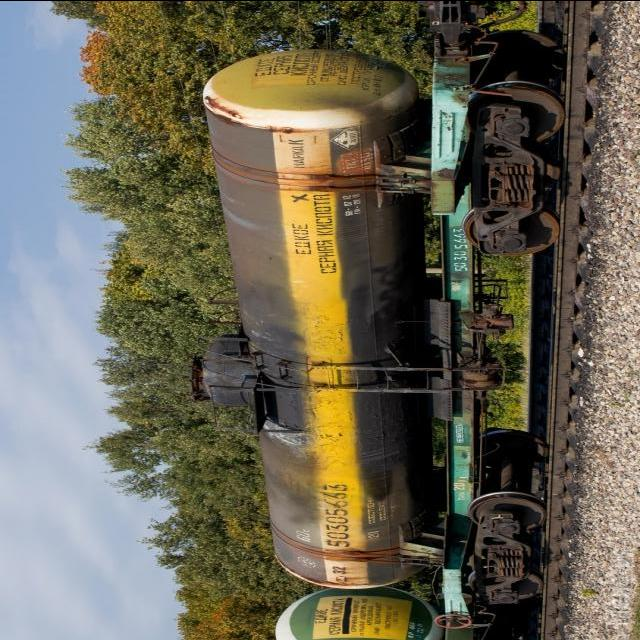wagon: (318, 481, 352, 546), (450, 226, 473, 274)
